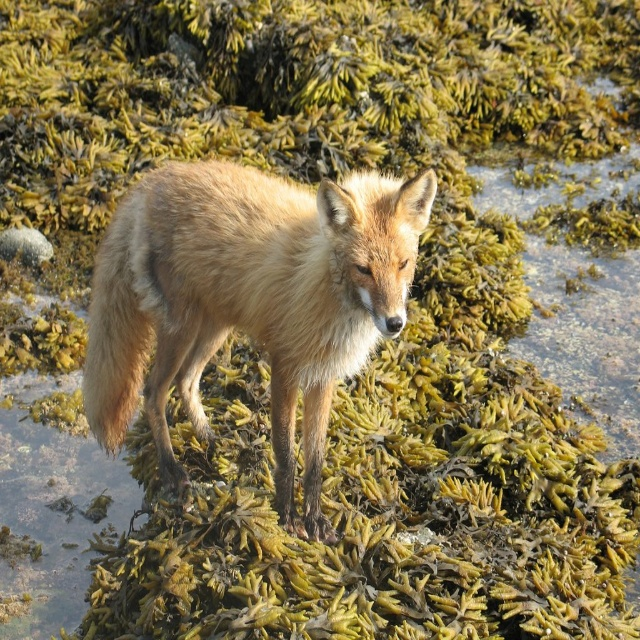Fox: (77, 163, 440, 543)
